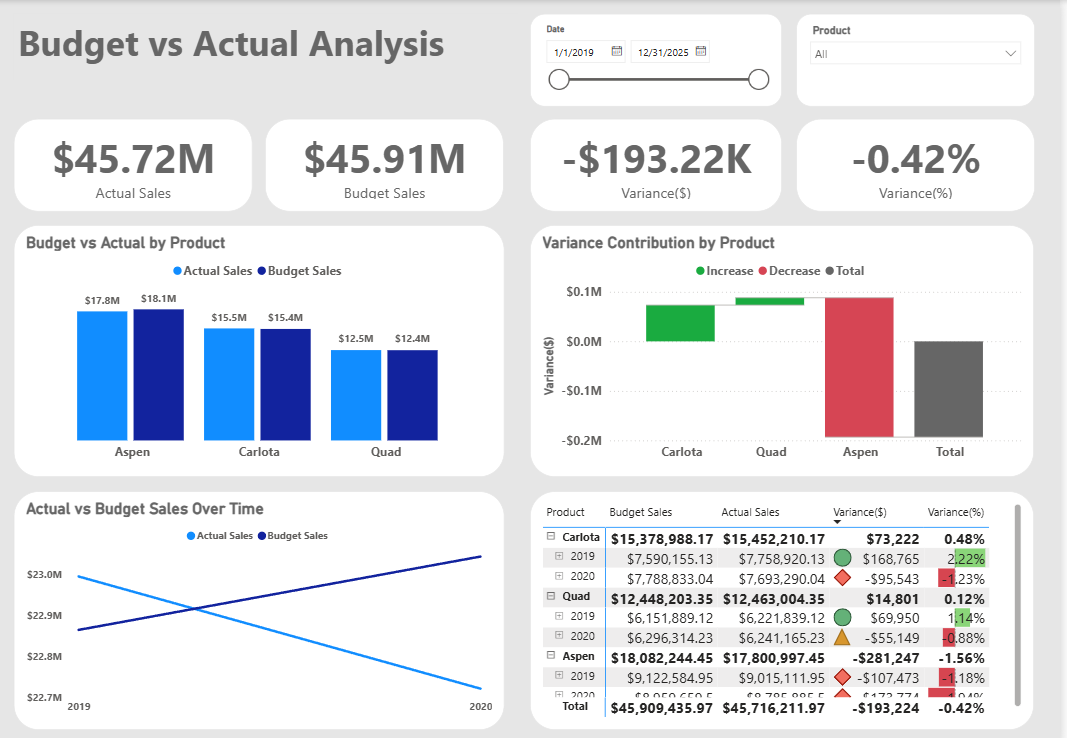

The dashboard page shown, as its layout file describes it:
{"tool":"powerbi","page":{"name":"Dashboard","canvas":[1280,900],"ordinal":0},"visuals":[{"type":"card","fields":{"Values":["_Measures.Total Budget"]},"box":[320,144,288,112],"z":0},{"type":"card","fields":{"Values":["_Measures.Variance(%)"]},"box":[960,144,288,112],"z":1000},{"type":"card","fields":{"Values":["_Measures.Total Actual"]},"box":[16,144,288,112],"z":2000},{"type":"card","fields":{"Values":["_Measures.Variance"]},"box":[640,144,304,112],"z":3000},{"type":"clusteredColumnChart","title":"Budget vs Actual by Product","fields":{"Y":["_Measures.Total Actual","_Measures.Total Budget"],"Category":["Products.Product"]},"box":[16,272,592,304],"z":4000},{"type":"waterfallChart","title":"Variance Contribution by Product","fields":{"Y":["_Measures.Variance"],"Category":["Products.Product"]},"box":[640,272,608,304],"z":5000},{"type":"lineChart","title":"Actual vs Budget Sales Over Time","fields":{"Y":["_Measures.Actual Sales","_Measures.Budget Sales"],"Category":["Calendar.Date.Variation.Date Hierarchy.Year","Calendar.Date.Variation.Date Hierarchy.Quarter","Calendar.Date.Variation.Date Hierarchy.Month"]},"box":[16,592,592,288],"z":6000},{"type":"pivotTable","fields":{"Rows":["Products.Product","Calendar.Date.Variation.Date Hierarchy.Year","Calendar.Date.Variation.Date Hierarchy.Month"],"Values":["_Measures.Budget Sales","_Measures.Actual Sales","_Measures.Variance($)","_Measures.Variance(%)"]},"box":[640,592,608,288],"z":7000},{"type":"textbox","box":[16,16,608,80],"z":8000},{"type":"slicer","fields":{"Values":["Products.Product"]},"box":[960,16,288,112],"z":9000},{"type":"slicer","fields":{"Values":["Calendar.Date"]},"box":[640,16,304,112],"z":10000}]}

Visuals, with their boxes in screenshot pixels (x1, y1, x2, y2), scaled from the page's 1280x900 canvas onto the 1067x738 screenshot:
card - _Measures.Total Budget: 267:118:507:210
card - _Measures.Variance(%): 800:118:1040:210
card - _Measures.Total Actual: 13:118:253:210
card - _Measures.Variance: 534:118:787:210
"Budget vs Actual by Product" clusteredColumnChart: 13:223:507:472
"Variance Contribution by Product" waterfallChart: 534:223:1040:472
"Actual vs Budget Sales Over Time" lineChart: 13:485:507:722
pivotTable - Products.Product x Calendar.Date.Variation.Date Hierarchy.Year: 534:485:1040:722
textbox: 13:13:520:79
slicer - Products.Product: 800:13:1040:105
slicer - Calendar.Date: 534:13:787:105
